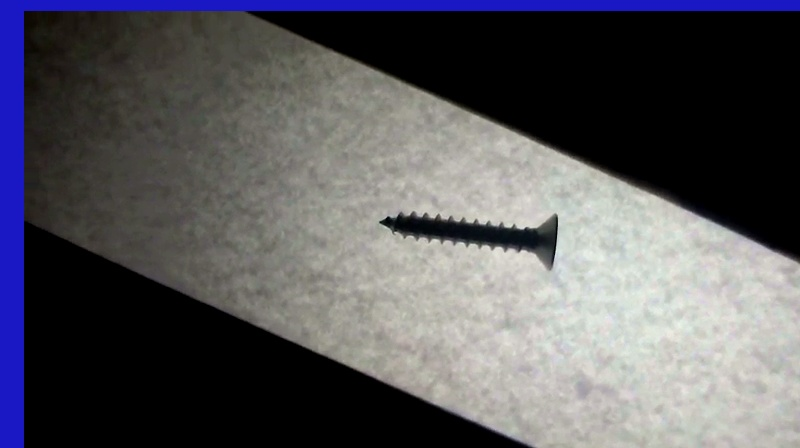S001: (371, 208, 560, 271)
